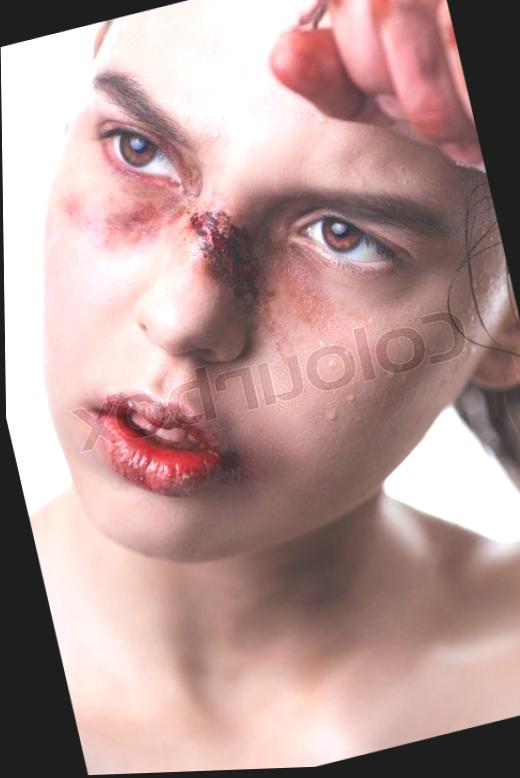Fire: (187, 212, 259, 307)
